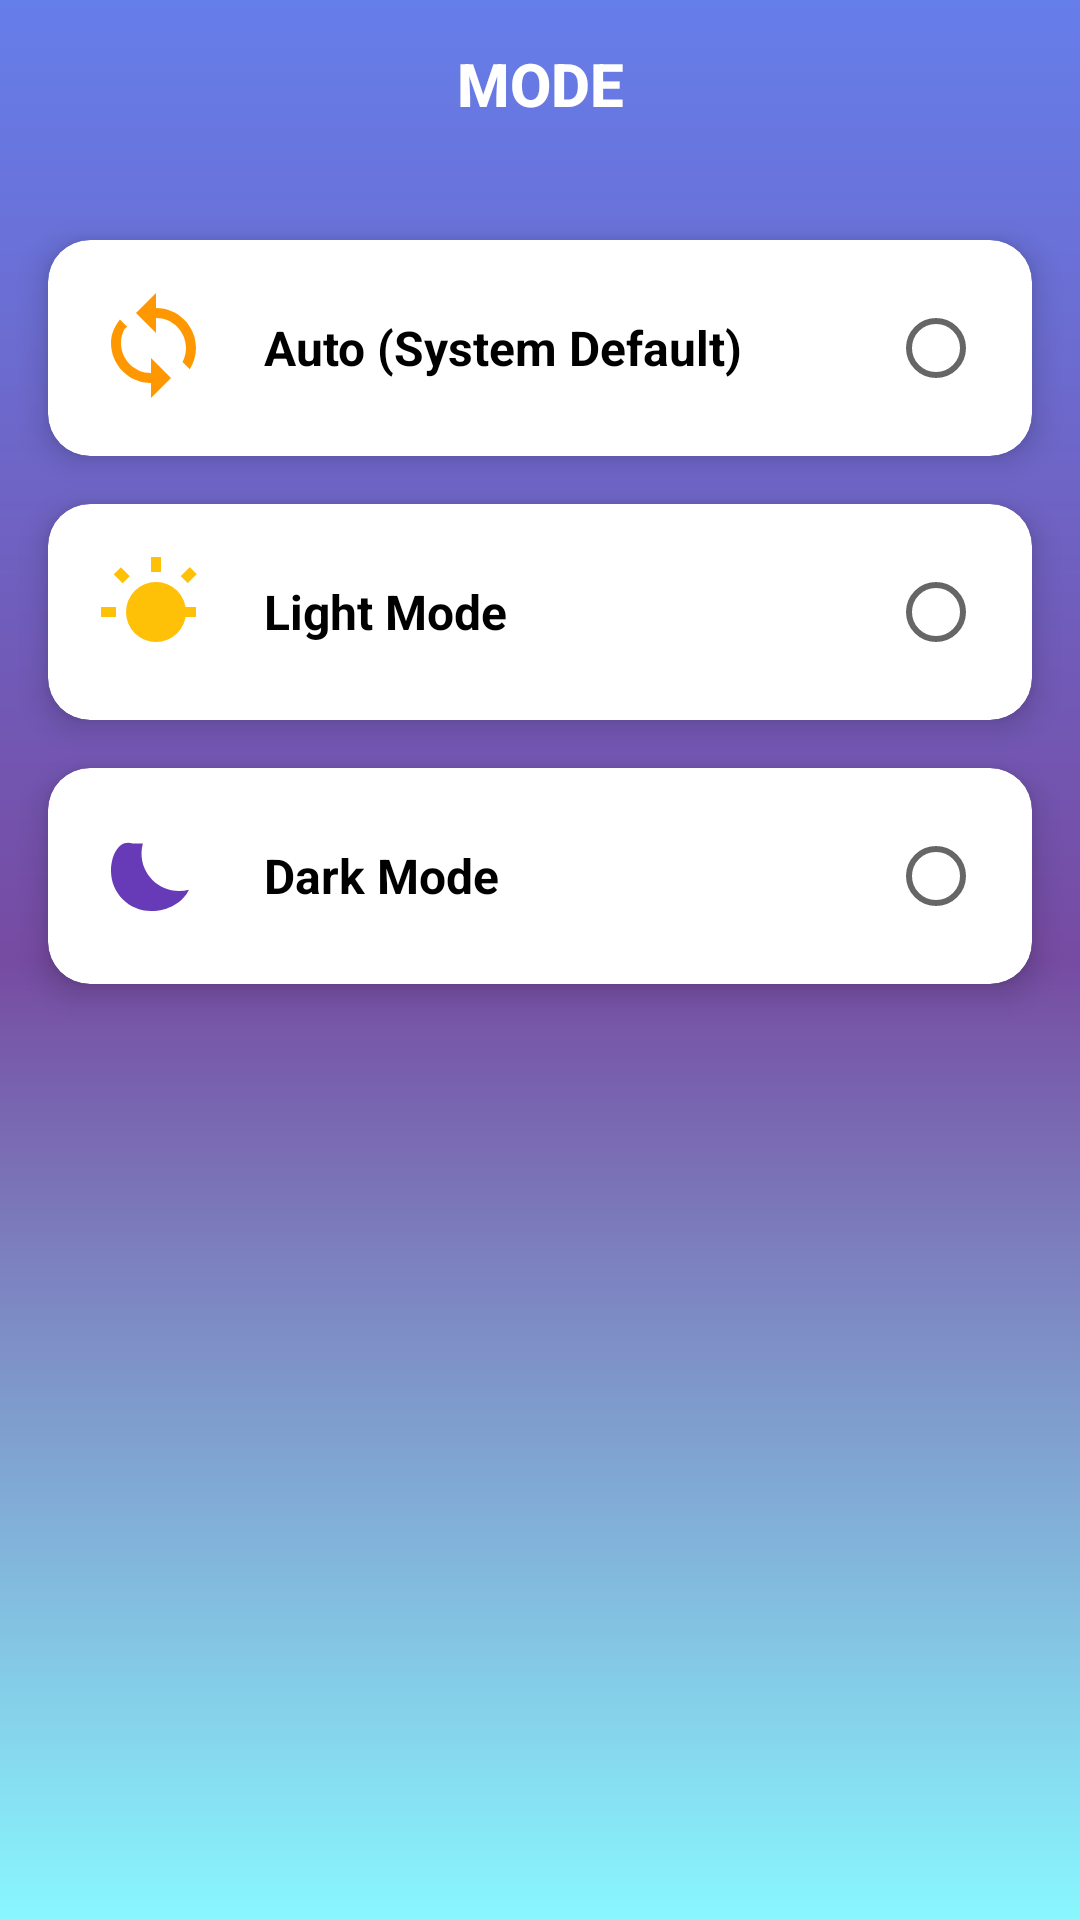

Where icons sit on this 1080×1920 app screen, as (x1, y1, x2, y2):
auto mode: (111, 293, 196, 398)
